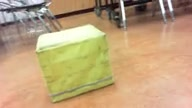cube: (35, 23, 113, 102)
